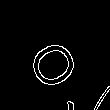O_NE: (21, 27, 86, 90)
